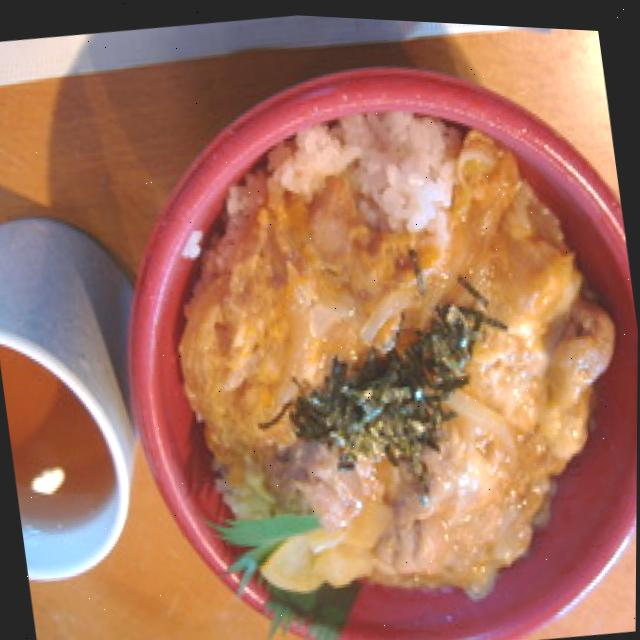米饭主食: (86, 17, 640, 640)
